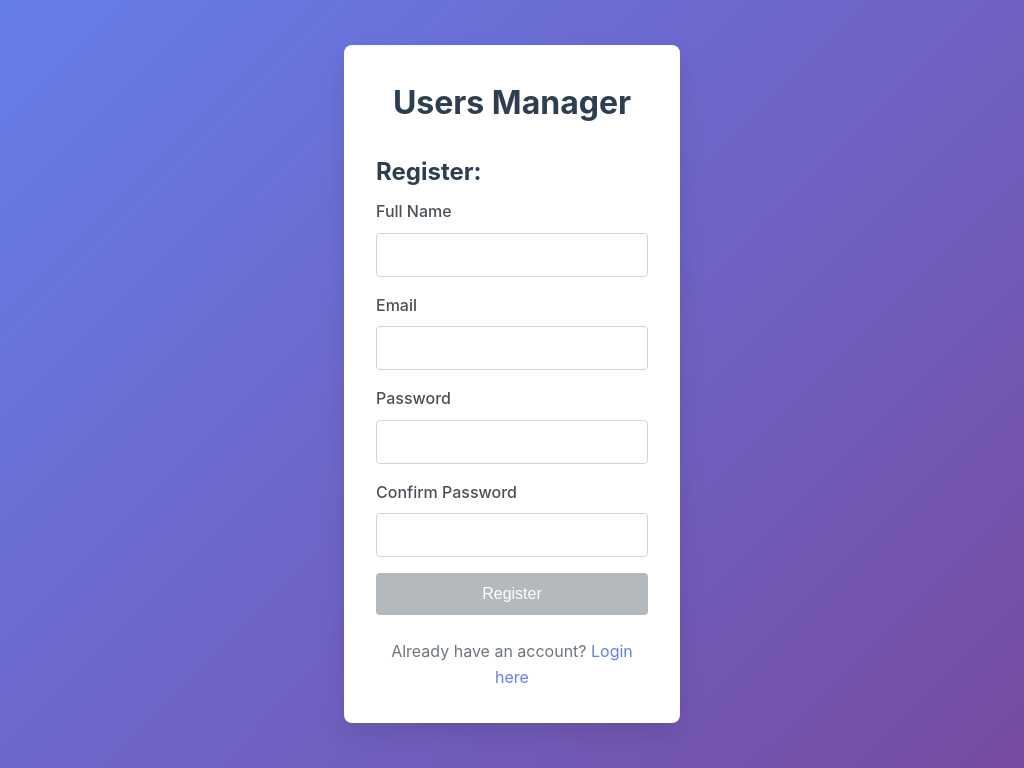
Register › disables submit button when passwords do not match
The image size is (1024, 768).
Type "John Doe" into the field labelled "Full Name" at (512, 255), box [376,233,648,277]
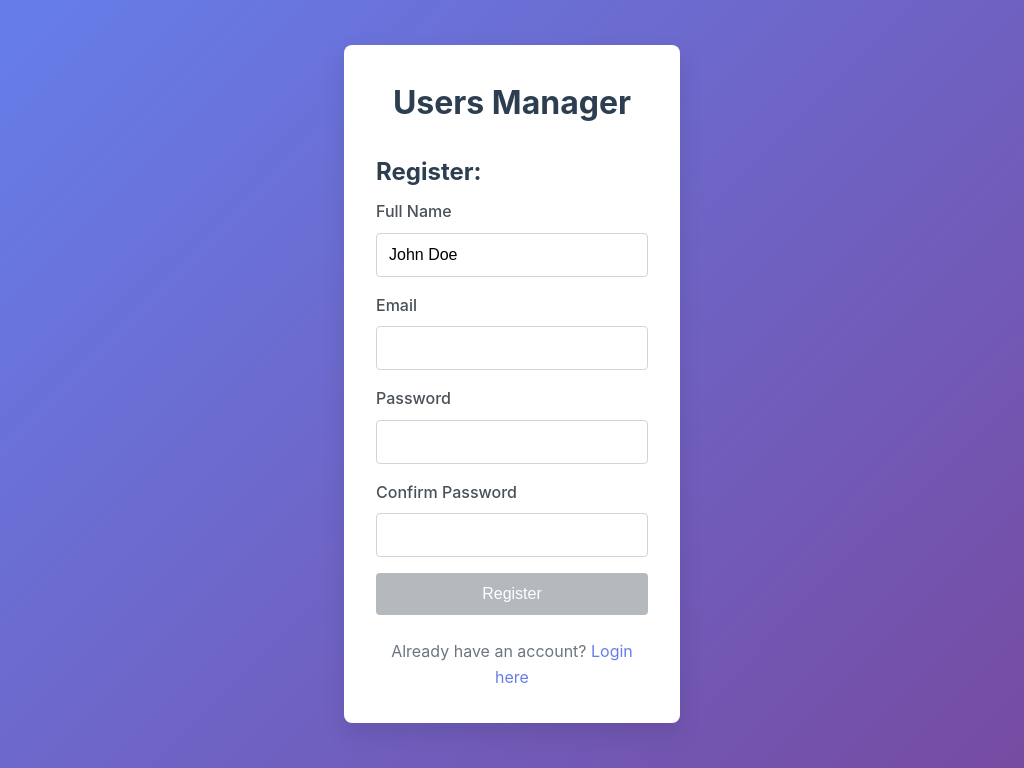
Type "john@example.com" into the field labelled "Email" at (512, 348), box [376,326,648,370]
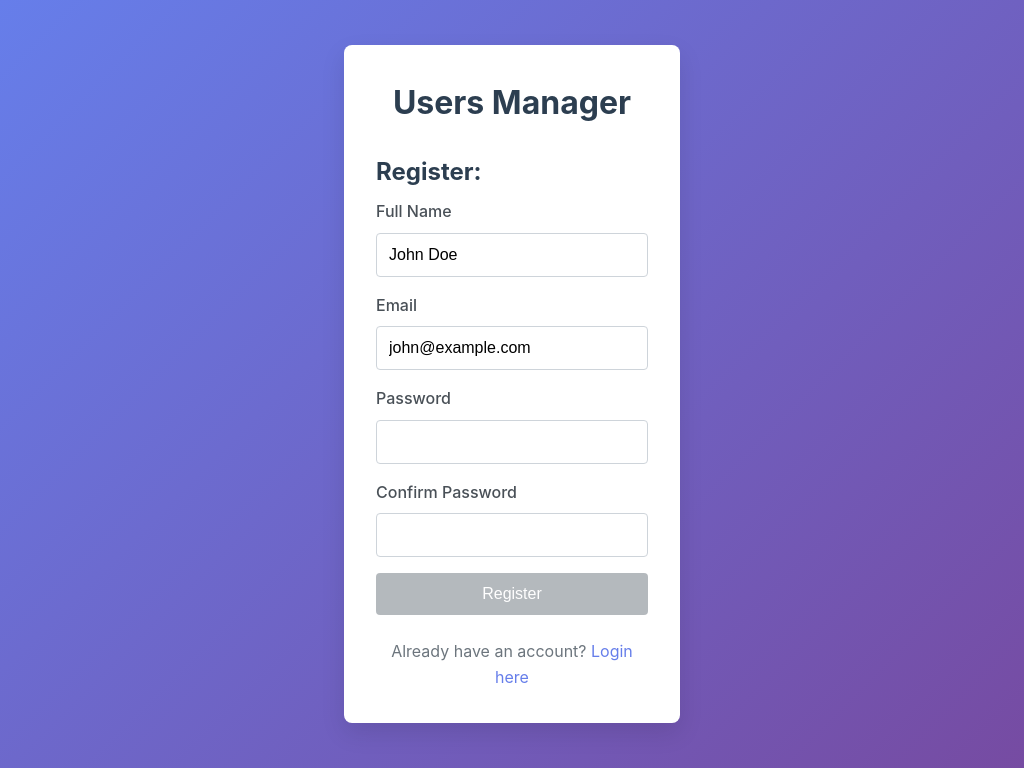
Type "password123" into the password field labelled "Password" at (512, 442), box [376,420,648,464]
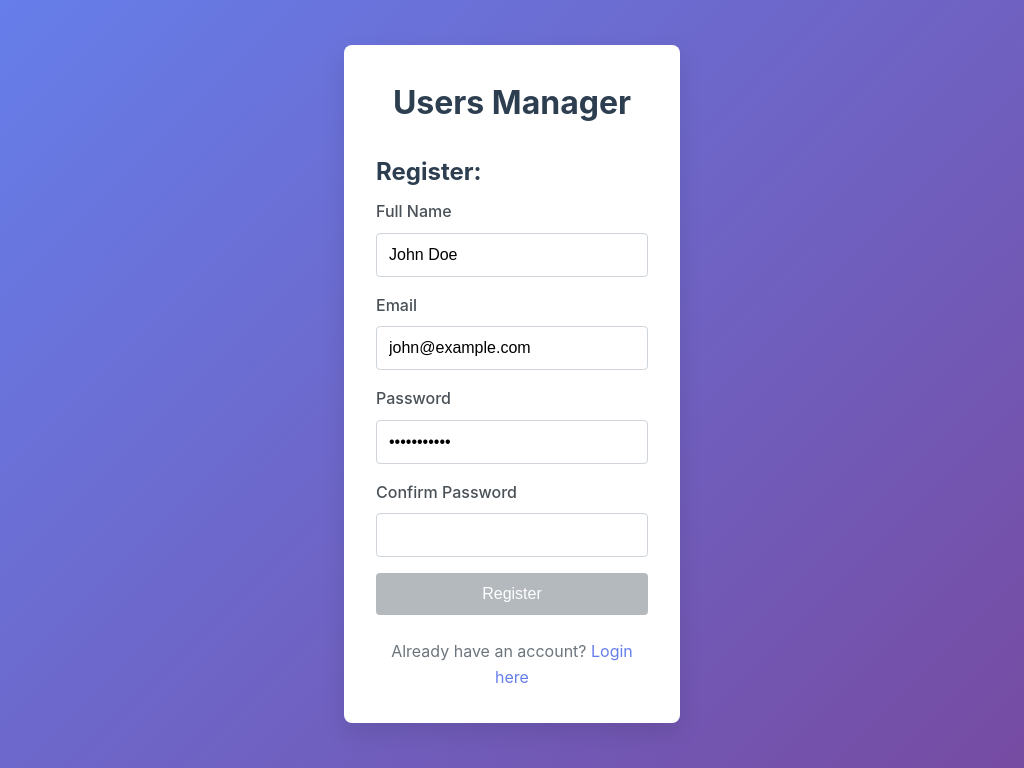
Type "password456" into the password field labelled "Confirm Password" at (512, 535), box [376,513,648,557]
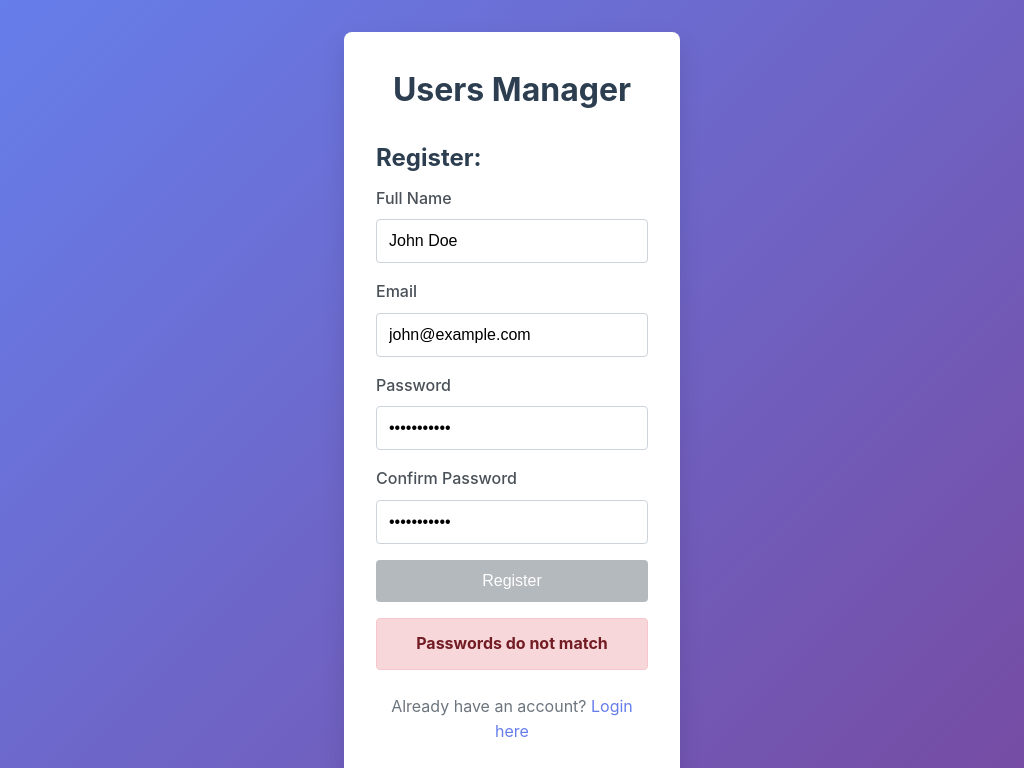
expect the button "Register" is disabled: met, box [376,560,648,602]
expect the text "Passwords do not match" is shown: met, box [376,618,648,670]
